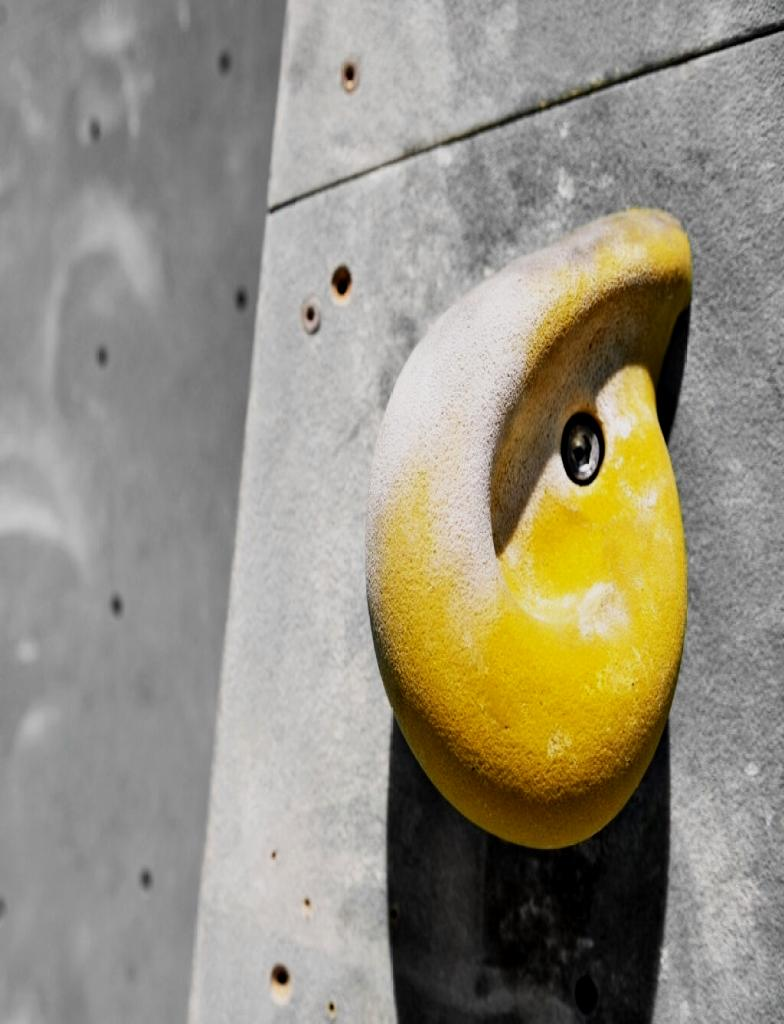jug: (365, 209, 691, 848)
